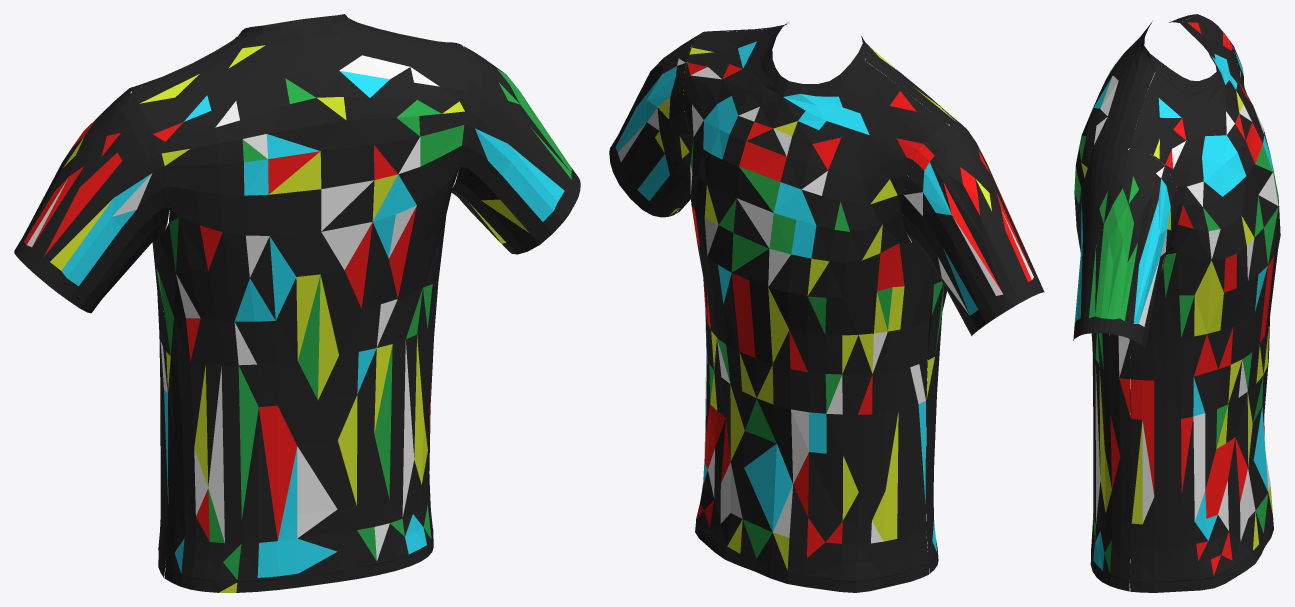
The model's file is t-shirt.glb.
3 renders of one model, left to right at view 1: azimuth 30°, elevation 25°; view 2: azimuth 150°, elevation 25°; view 3: azimuth 270°, elevation 25°, orthographic. The views are drawn at different scales.
Parts seen in each view (by area): view 1: Shirt_adid; view 2: Shirt_adid; view 3: Shirt_adid.
Boxes of the visible parts, x1=… form: Shirt_adid: x1=14, y1=14, x2=580, y2=592; Shirt_adid: x1=609, y1=22, x2=1044, y2=592; Shirt_adid: x1=1073, y1=14, x2=1280, y2=592.
Size of the model in its own units: 341457 by 352917 by 130420.
2 materials, 2 textured.
